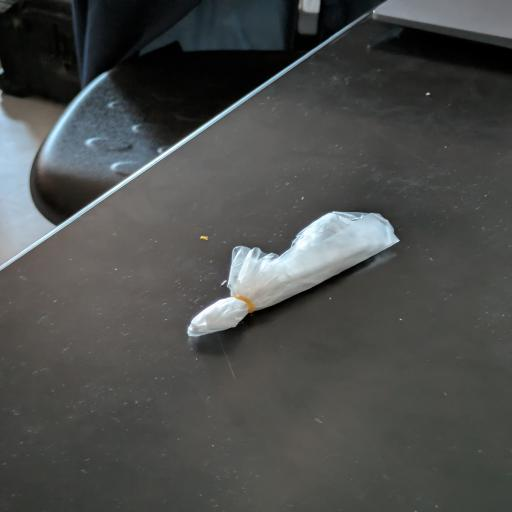rubberband: (186, 209, 400, 340)
